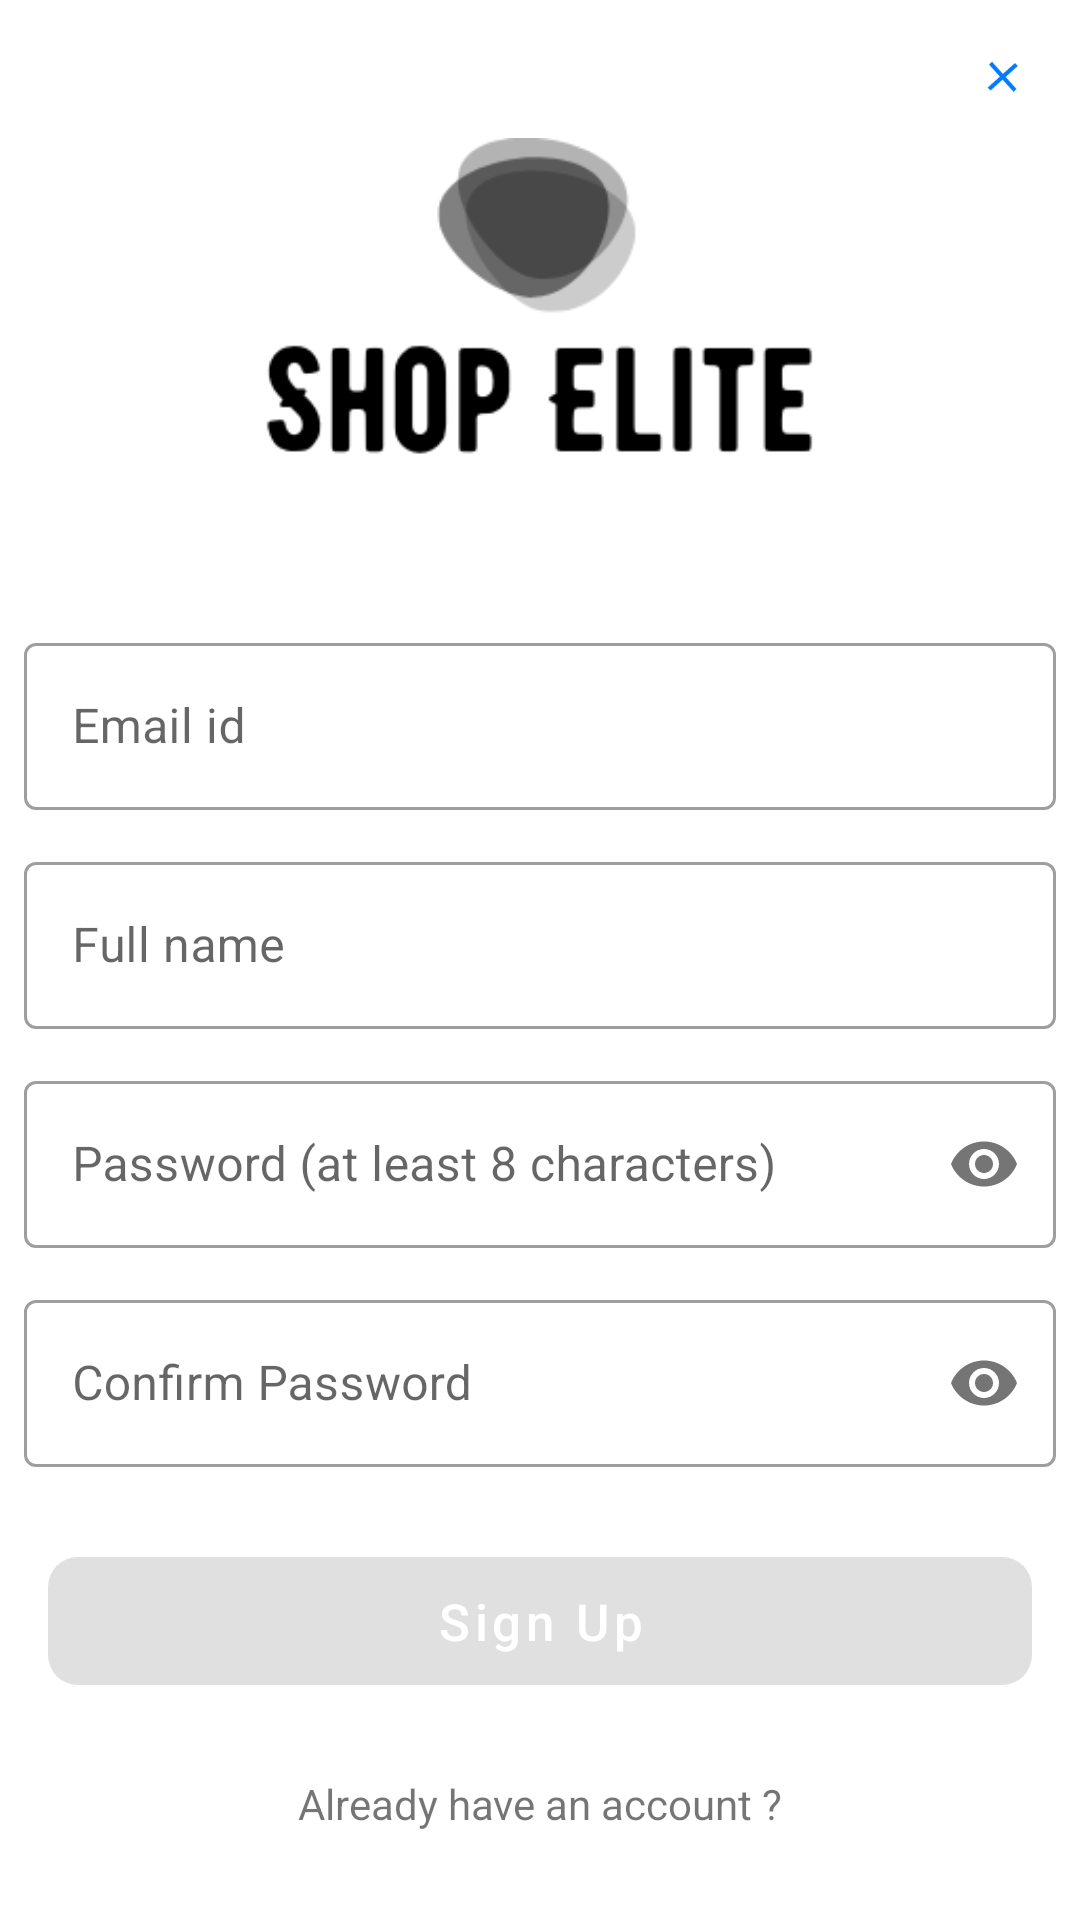

Where icons sit on this 1080×1920 app screen, as (x1, y1, x2, y2):
close cross: (987, 61, 1018, 92)
